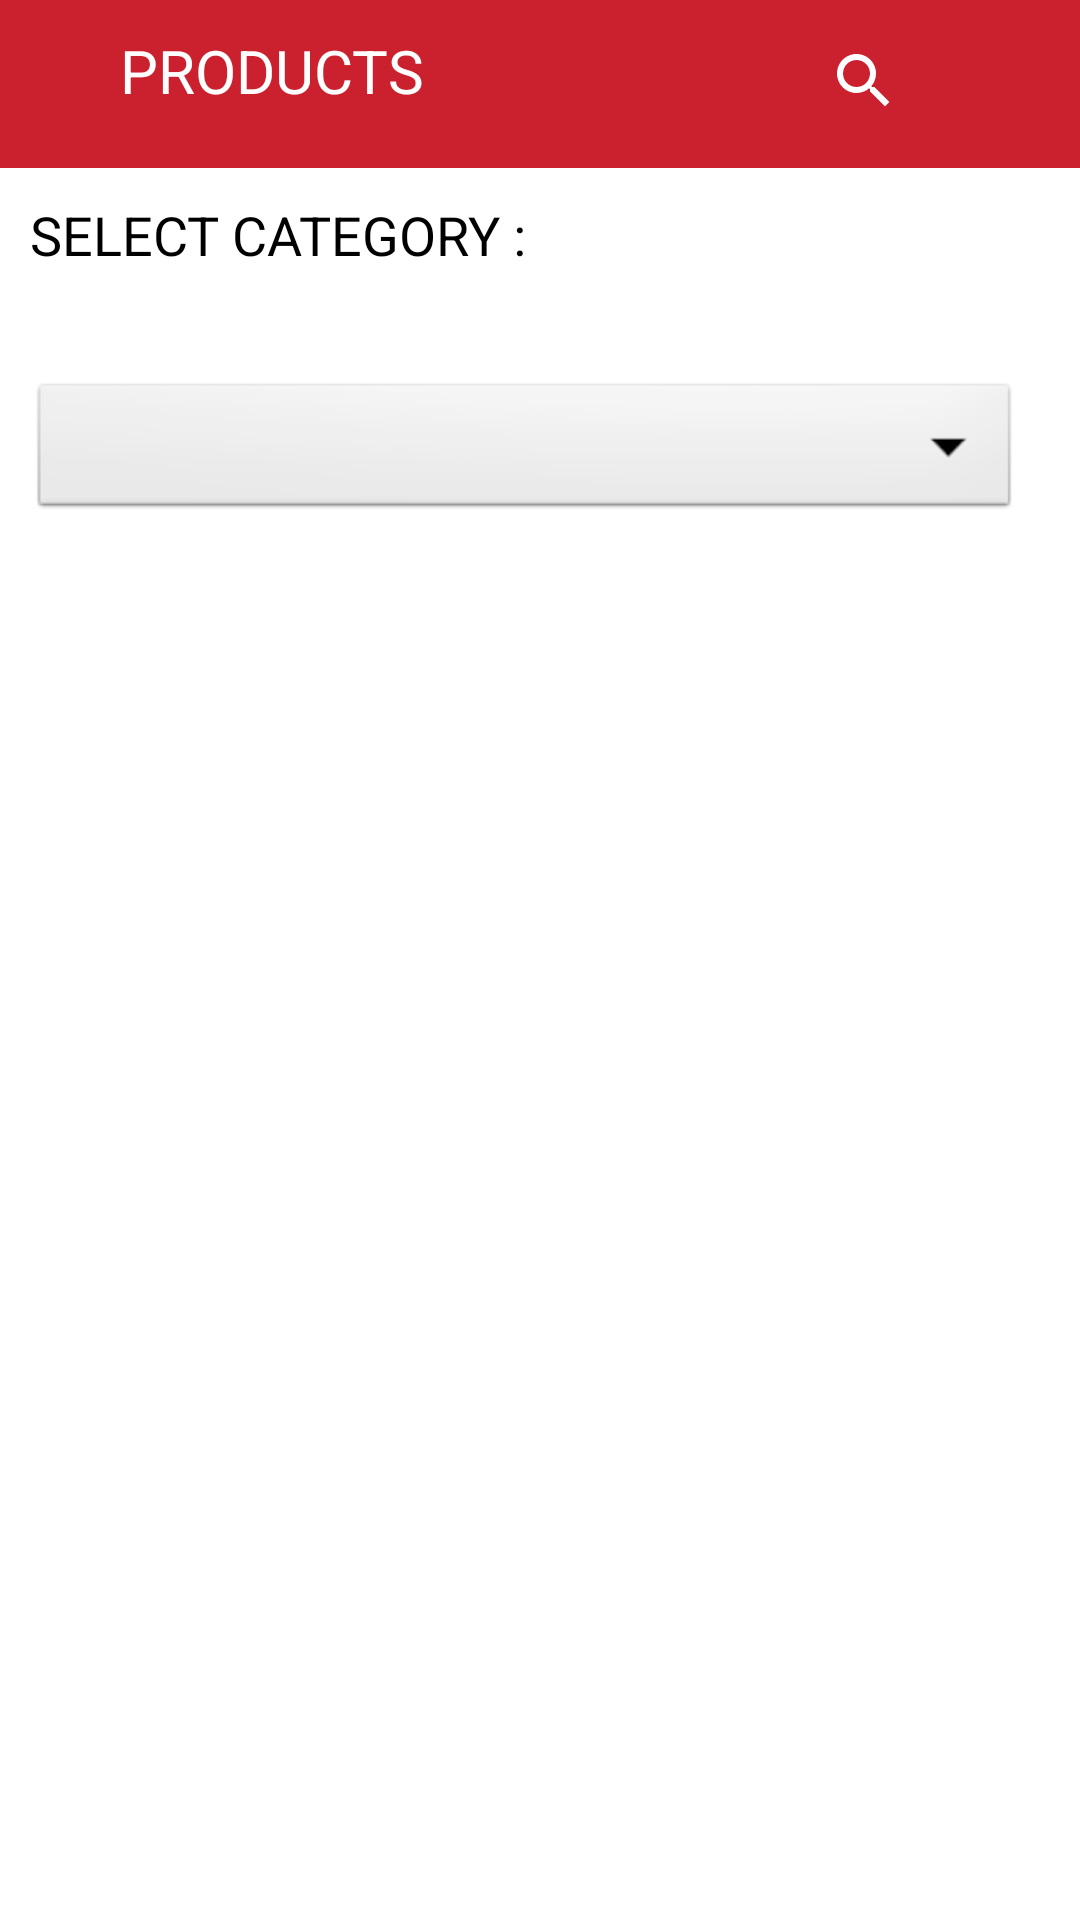

Where to tap for icons on this 1080*1920 app screen, as point (x, y):
search: point (863, 80)
